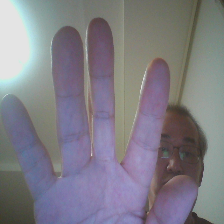hand: (6, 19, 199, 220)
